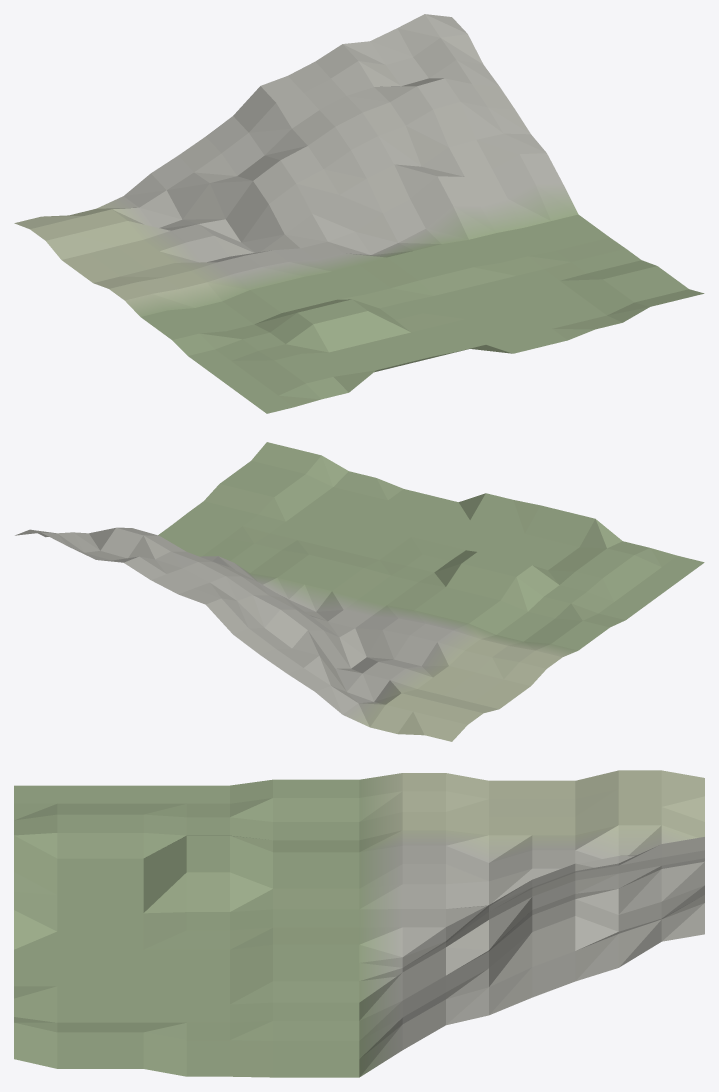
3 renders of one model, top to bottom at view 1: azimuth 30°, elevation 25°; view 2: azimuth 150°, elevation 25°; view 3: azimuth 270°, elevation 25°, orthographic. The views are drawn at different scales.
Bounding box in the file's own units: 32 × 8.53 × 32.
